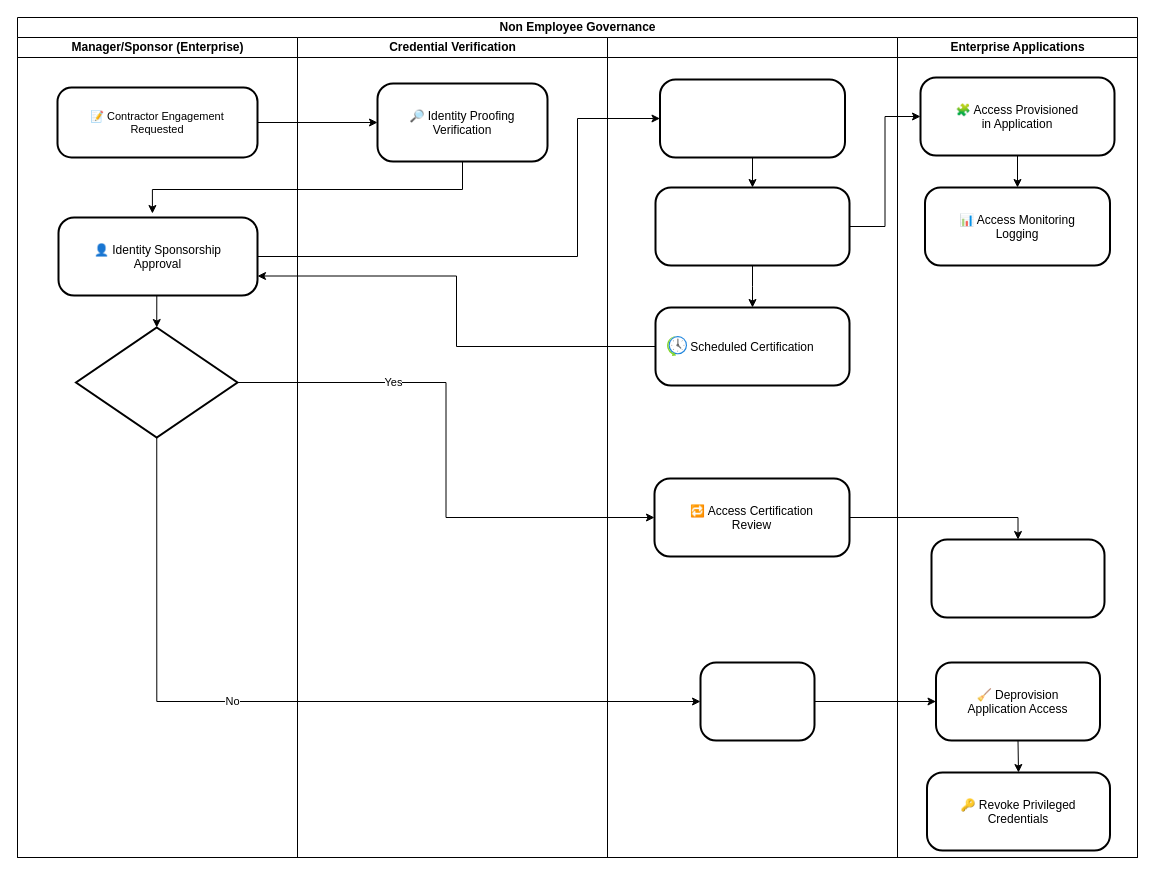
Some shapes in this 1155 by 875 pixel diagram are drawn without their labels. Each missing label, with the box of its shape:
IGA and IAM System: (606, 36, 898, 858)
⚠️ Access Adjusted or Revoked: (930, 538, 1105, 618)
⛔ Account Disabled: (699, 661, 815, 741)
🆔 Contractor Identity Created: (658, 78, 846, 158)
📅 Contract Active?: (74, 326, 238, 438)
🔐 Role-Based Access Provisioning: (654, 186, 850, 266)
